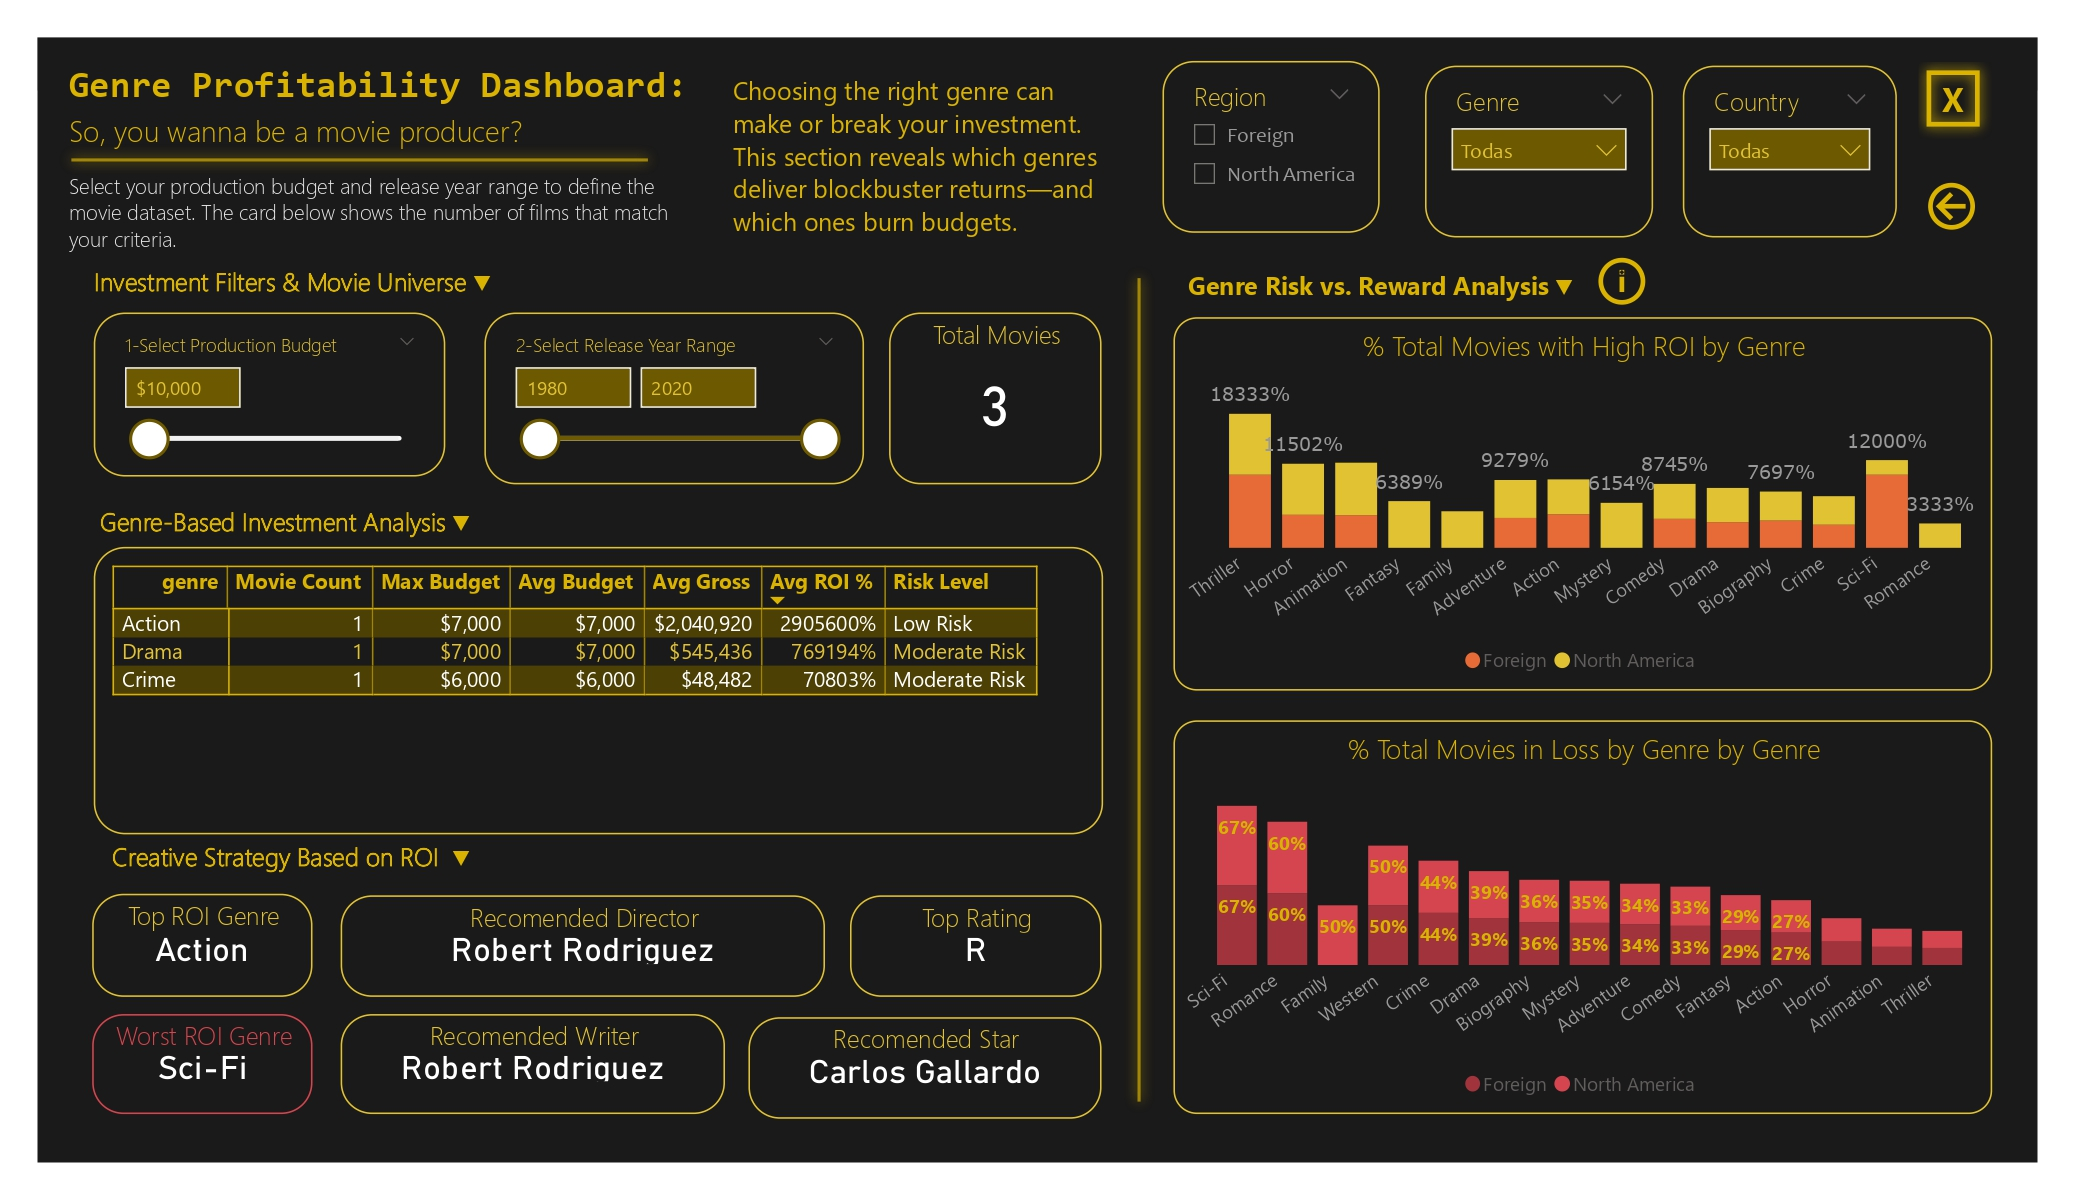

The page's visual inventory and layout, read from the dashboard file:
{"tool":"powerbi","page":{"name":"Duplicado de Duplicado de Página 1","canvas":[1280,720],"ordinal":1},"visuals":[{"type":"pivotTable","fields":{"Rows":["Movies.genre"],"Values":["Movies.Movie Count (Selected Budget)","Movies.Max Budget (Selected Budget)","Movies.Avg Budget (Selected Budget)","Movies.Avg Gross (Selected Budget)","Movies.Avg ROI % (Selected Budget)","Movies.Investment Risk Level"]},"box":[27,326,655,184],"z":0},{"type":"columnChart","title":"% Total Movies with High ROI by Genre","fields":{"Category":["Movies.genre"],"Series":["Movies.region"],"Y":["Movies.% Movies with High ROI"]},"box":[727.4,178.6,523.8,239.3],"z":1000},{"type":"card","title":"Top ROI Genre ","fields":{"Values":["Genre ROI Table.Top ROI Genre (Label)"]},"box":[34.5,547.6,141.7,66.7],"z":2000},{"type":"card","title":"Worst ROI Genre","fields":{"Values":["Genre ROI Table.Genre with Highest Loss Rate"]},"box":[34.5,625,141.7,64.3],"z":3000},{"type":"shape","box":[690.5,146.4,29.8,542.9],"z":4000},{"type":"card","title":"Recomended Director","fields":{"Values":["Genre ROI Table.Top Genre Most Frequent Director"]},"box":[194,548.8,309.5,65.5],"z":5000},{"type":"card","title":"Recomended Writer","fields":{"Values":["Genre ROI Table.Top Genre Most Frequent Writer"]},"box":[194,625,246.4,64.3],"z":6000},{"type":"textbox","box":[15,10,425,68.8],"z":7000},{"type":"textbox","box":[42.9,508.3,259.5,34.5],"z":8000},{"type":"textbox","box":[15,81.2,400,80],"z":9000},{"type":"shape","box":[13.8,62.5,385,30],"z":10000},{"type":"actionButton","title":"X","box":[1201.2,12.5,50,52.5],"z":11000},{"type":"actionButton","box":[1205,87.5,46.2,40],"z":12000},{"type":"slicer","fields":{"Values":["Sheet1.region"]},"box":[720,15,138.8,110],"z":13000},{"type":"slicer","fields":{"Values":["Sheet1.genre"]},"box":[887.5,17.5,146.2,110],"z":14000},{"type":"slicer","fields":{"Values":["Sheet1.country"]},"box":[1052.5,17.5,137.5,110],"z":15000},{"type":"slicer","fields":{"Values":["Sheet1.year"]},"box":[285.7,176.2,242.9,109.5],"z":16000},{"type":"slicer","fields":{"Values":["SelectedBudget.SelectedBudget"]},"box":[35.7,176.4,225,104.8],"z":17000},{"type":"columnChart","title":"% Total Movies in Loss by Genre by Genre","fields":{"Category":["Movies.genre"],"Series":["Movies.region"],"Y":["Movies.% Total Movies in Loss by Genre"]},"box":[727.4,436.9,523.8,252.4],"z":18000},{"type":"actionButton","box":[994.1,135.7,45.2,40.5],"z":19000},{"type":"card","title":"Total Movies","fields":{"Values":["Movies.Movie Count (Selected Budget)"]},"box":[545.2,176.4,135.7,109.5],"z":20000},{"type":"card","title":"Top Rating","fields":{"Values":["Genre ROI Table.Top Genre Most Frequent Rating"]},"box":[520.2,548.8,160.7,65.5],"z":21000},{"type":"card","title":"Recomended Star","fields":{"Values":["Genre ROI Table.Top Genre Most Frequent Star"]},"box":[454.8,627.4,226.2,64.3],"z":22000},{"type":"textbox","box":[34.5,294,292.9,32.1],"z":23000},{"type":"textbox","box":[27.4,140.5,311.9,35.7],"z":24000},{"type":"textbox","box":[727.4,142.9,278.6,35.7],"z":25000},{"type":"textbox","box":[440.5,17.9,251.2,120.2],"z":26000}]}

Visuals, with their boxes on the page's 1280x720 design canvas (x1, y1, x2, y2). These are canvas units, not pixel positions in the 2075x1200 screenshot, which may show the page scaled, cropped or inside an application window:
pivotTable - Movies.genre x Movies.Movie Count (Selected Budget): (27, 326, 682, 510)
"% Total Movies with High ROI by Genre" columnChart: (727, 179, 1251, 418)
"Top ROI Genre " card: (34, 548, 176, 614)
"Worst ROI Genre" card: (34, 625, 176, 689)
shape: (690, 146, 720, 689)
"Recomended Director" card: (194, 549, 504, 614)
"Recomended Writer" card: (194, 625, 440, 689)
textbox: (15, 10, 440, 79)
textbox: (43, 508, 302, 543)
textbox: (15, 81, 415, 161)
shape: (14, 62, 399, 92)
"X" actionButton: (1201, 12, 1251, 65)
actionButton: (1205, 88, 1251, 128)
slicer - Sheet1.region: (720, 15, 859, 125)
slicer - Sheet1.genre: (888, 18, 1034, 128)
slicer - Sheet1.country: (1052, 18, 1190, 128)
slicer - Sheet1.year: (286, 176, 529, 286)
slicer - SelectedBudget.SelectedBudget: (36, 176, 261, 281)
"% Total Movies in Loss by Genre by Genre" columnChart: (727, 437, 1251, 689)
actionButton: (994, 136, 1039, 176)
"Total Movies" card: (545, 176, 681, 286)
"Top Rating" card: (520, 549, 681, 614)
"Recomended Star" card: (455, 627, 681, 692)
textbox: (34, 294, 327, 326)
textbox: (27, 140, 339, 176)
textbox: (727, 143, 1006, 179)
textbox: (440, 18, 692, 138)
